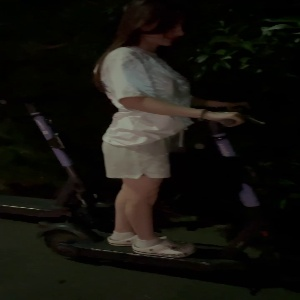human on a scooter: (34, 1, 300, 282)
